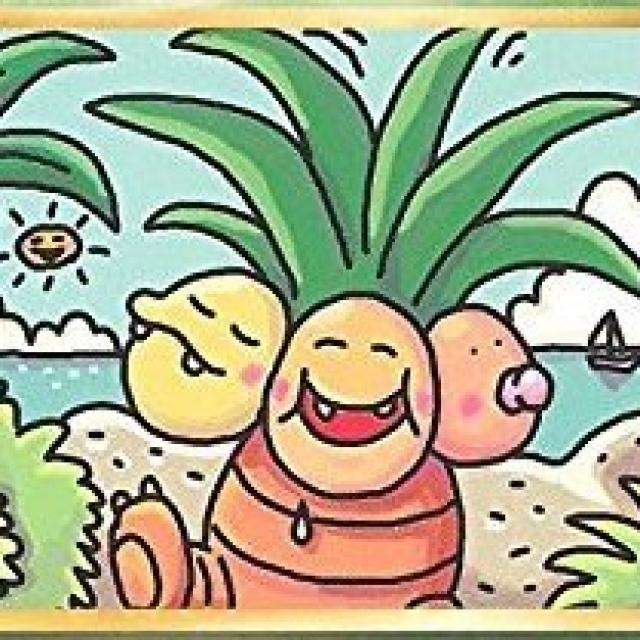Exeggutor: (111, 31, 626, 613)
